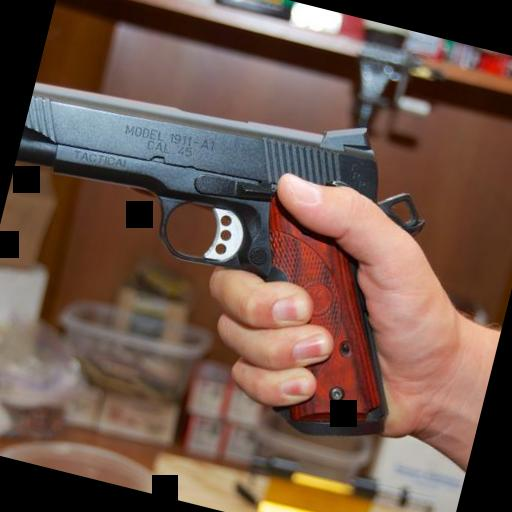Handgun: (0, 45, 456, 444)
